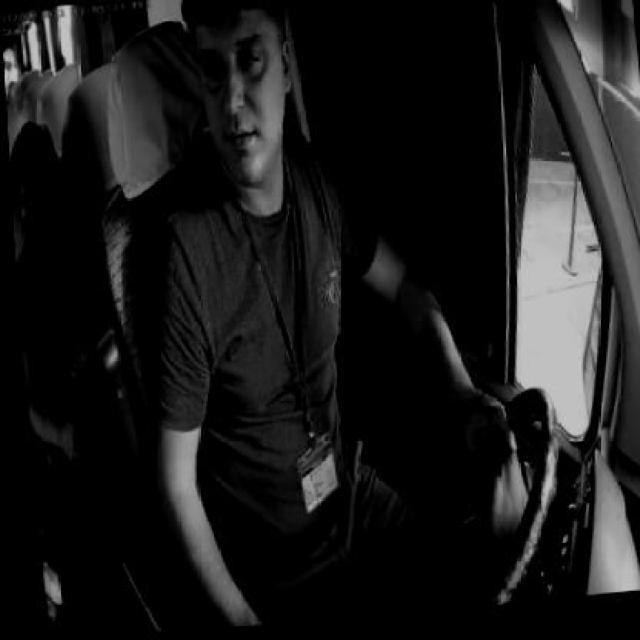Inattentive: (187, 4, 311, 200)
